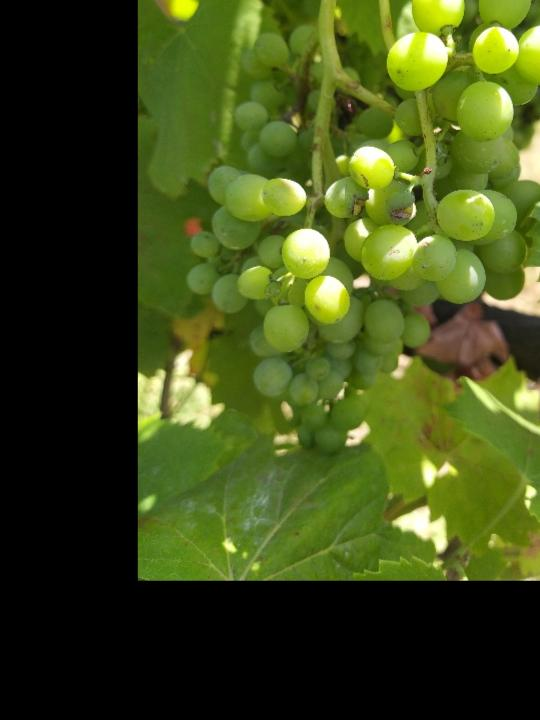grape: (183, 0, 540, 455)
